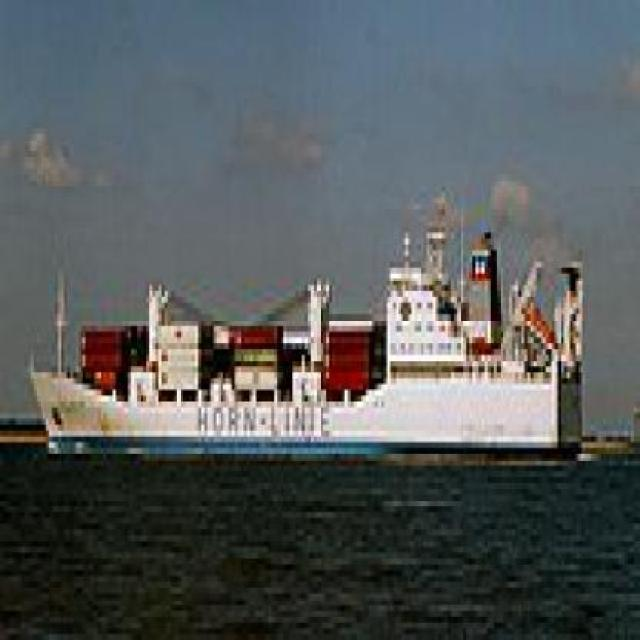container: (16, 181, 593, 490)
